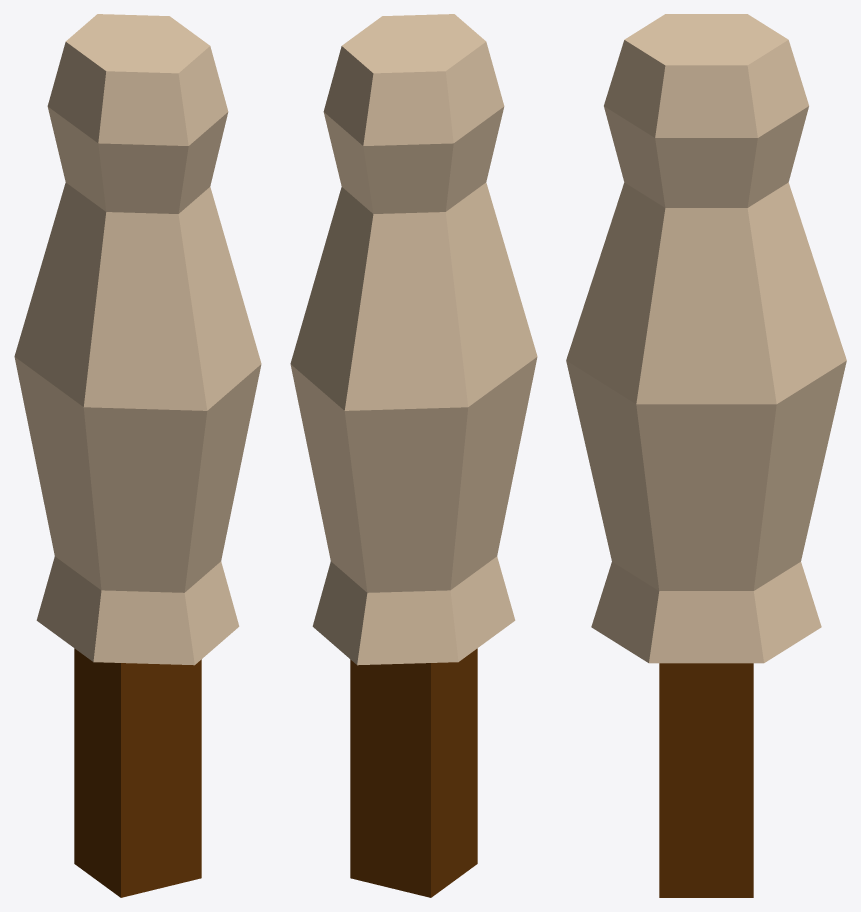
The model's file is TrainingDoll.fbx.
3 views of the same model, side by side, from view 1: azimuth 30°, elevation 25°; view 2: azimuth 150°, elevation 25°; view 3: azimuth 270°, elevation 25° (orthographic).
Visible parts, largest first — view 1: Post; view 2: Post; view 3: Post.
Part boxes in pixels (x1=…): Post: x1=14, y1=14, x2=261, y2=897; Post: x1=290, y1=14, x2=537, y2=897; Post: x1=566, y1=14, x2=846, y2=897.
Size of the model in its own units: 44.01 by 196 by 59.42.
Materials: 2 (2 with a texture image).
